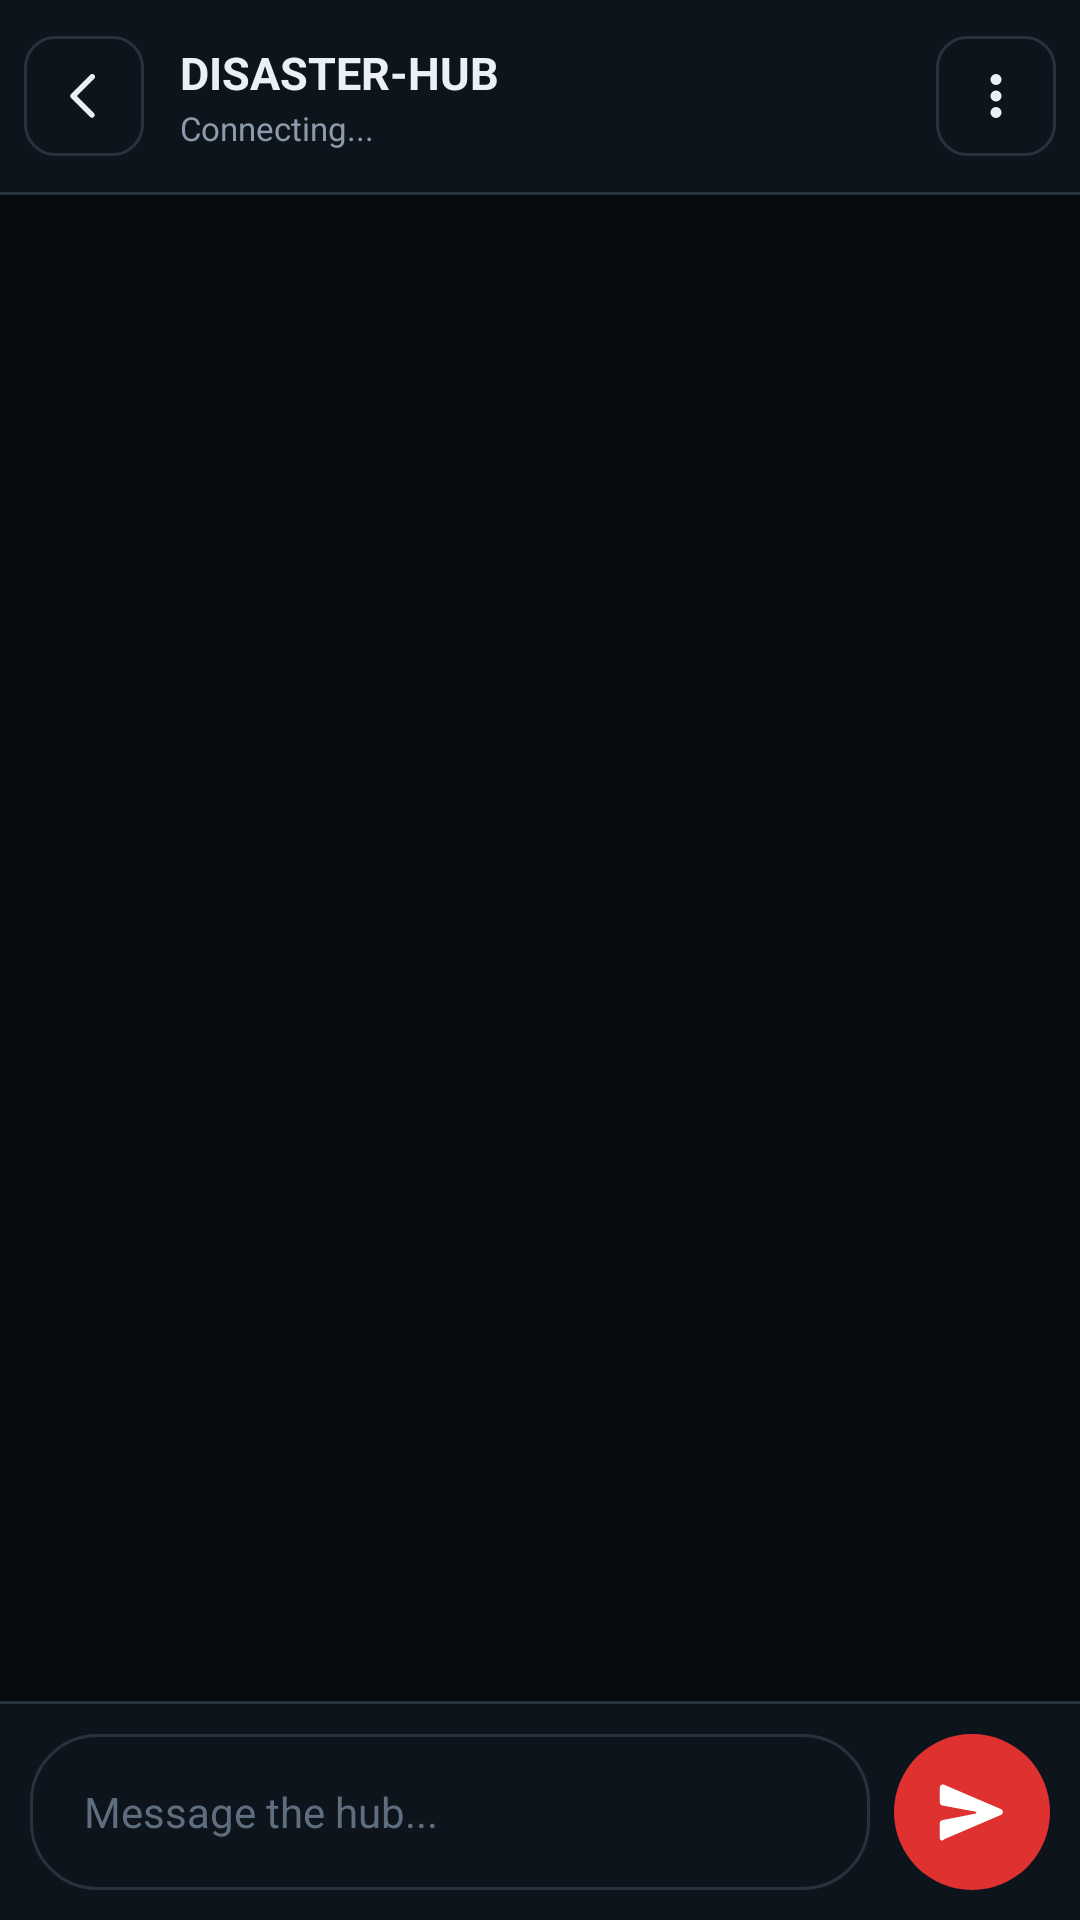

Named icons in this screenshot (1080px×1920px) and their centers, point (x, y):
Back: point (84, 96)
Options: point (996, 96)
Send: point (972, 1812)
